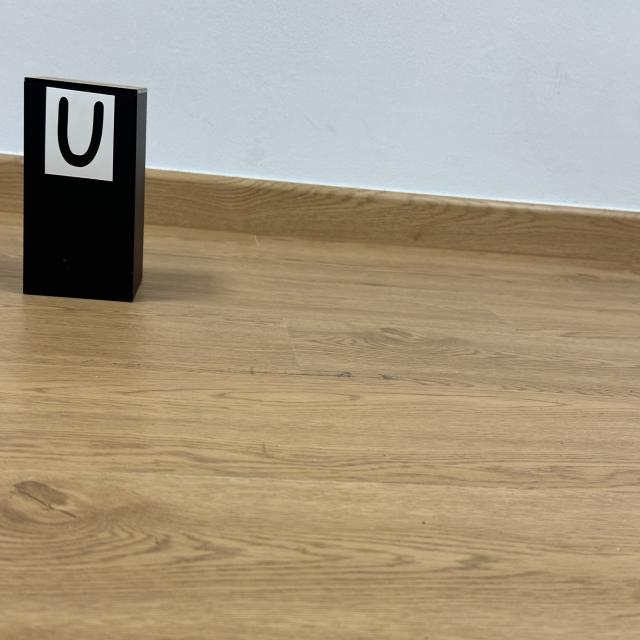U: (58, 97, 104, 167)
